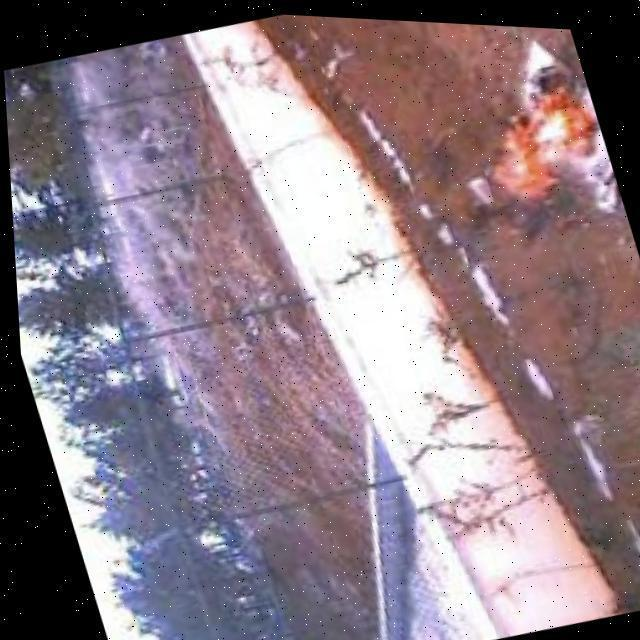fire: (458, 41, 616, 207)
